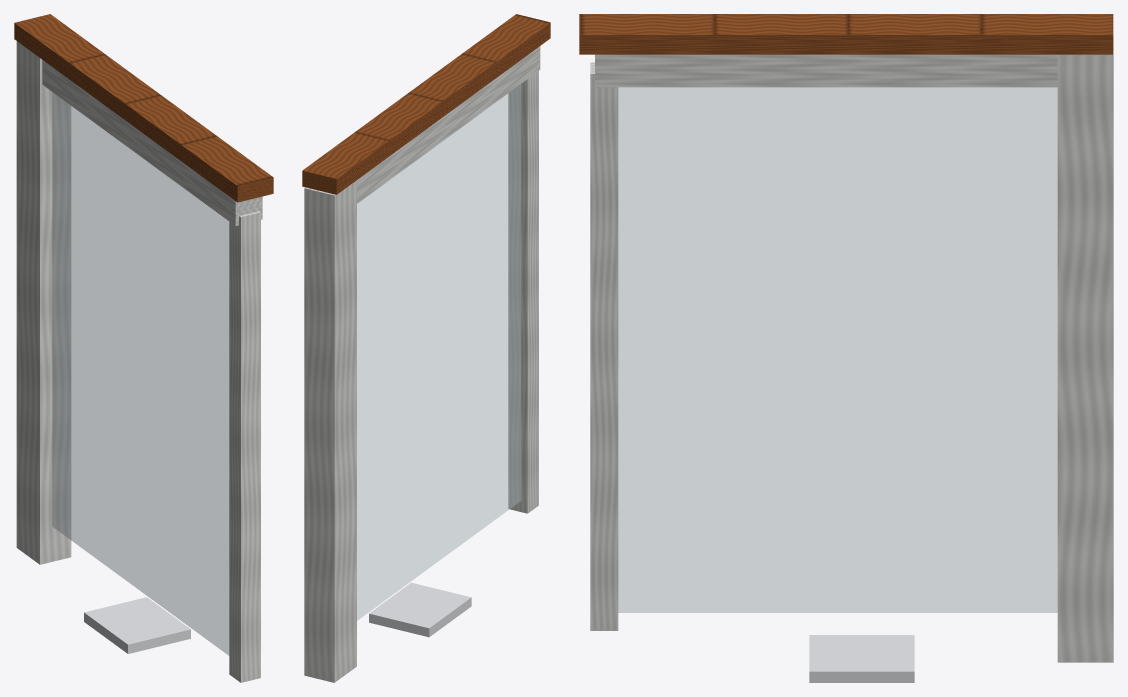
The model's file is cruise-ship-deck-and-lounge-cruise-ship-deck-and-loung-ea0ea8c1__38415.glb.
3 renders of one model, left to right at view 1: azimuth 30°, elevation 25°; view 2: azimuth 150°, elevation 25°; view 3: azimuth 270°, elevation 25°, orthographic. The views are drawn at different scales.
Parts seen in each view (by area): view 1: cruise-ship-deck-and-lounge-balcony-divider; view 2: cruise-ship-deck-and-lounge-balcony-divider; view 3: cruise-ship-deck-and-lounge-balcony-divider.
Part boxes in pixels (x1,y1,x2,y2): cruise-ship-deck-and-lounge-balcony-divider: (14, 14, 273, 682); cruise-ship-deck-and-lounge-balcony-divider: (302, 14, 550, 682); cruise-ship-deck-and-lounge-balcony-divider: (579, 14, 1113, 682).
Size of the model in its own units: 0.28 by 2.27 by 1.72.
4 materials, 2 textured.
